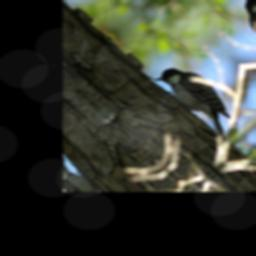Woodpecker: (152, 56, 250, 142)
